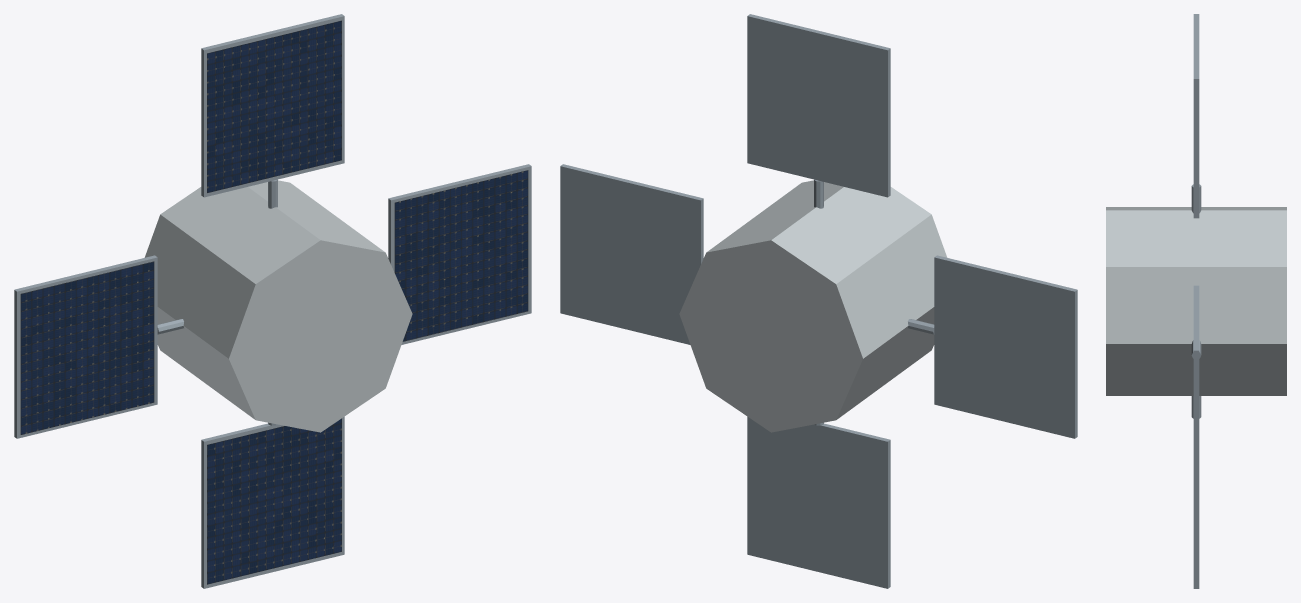
The model's file is ref-exos-c-14722.glb.
3 views of the same model, side by side, from view 1: azimuth 30°, elevation 25°; view 2: azimuth 150°, elevation 25°; view 3: azimuth 270°, elevation 25° (orthographic). The views are drawn at different scales.
Visible parts, largest first — view 1: Photovoltaic laminates (×4), Spacecraft body, Array frame (×4); view 2: Array frame (×4), Spacecraft body; view 3: Spacecraft body, Array frame (×3).
Part boxes in pixels (bbox=[...]): Photovoltaic laminates (×4): bbox=[20, 20, 528, 584]; Spacecraft body: bbox=[144, 180, 412, 432]; Array frame (×4): bbox=[14, 14, 531, 588]; Array frame (×4): bbox=[560, 14, 1077, 588]; Spacecraft body: bbox=[679, 180, 947, 432]; Spacecraft body: bbox=[1106, 207, 1286, 395]; Array frame (×3): bbox=[1193, 14, 1199, 588].
Size of the model in its own units: 2.8 by 2.8 by 0.9.
3 materials, 1 textured.
